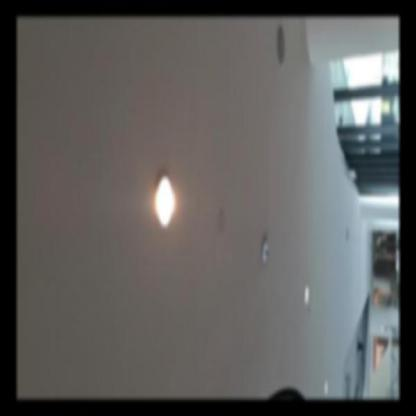light_on: (148, 163, 188, 237)
